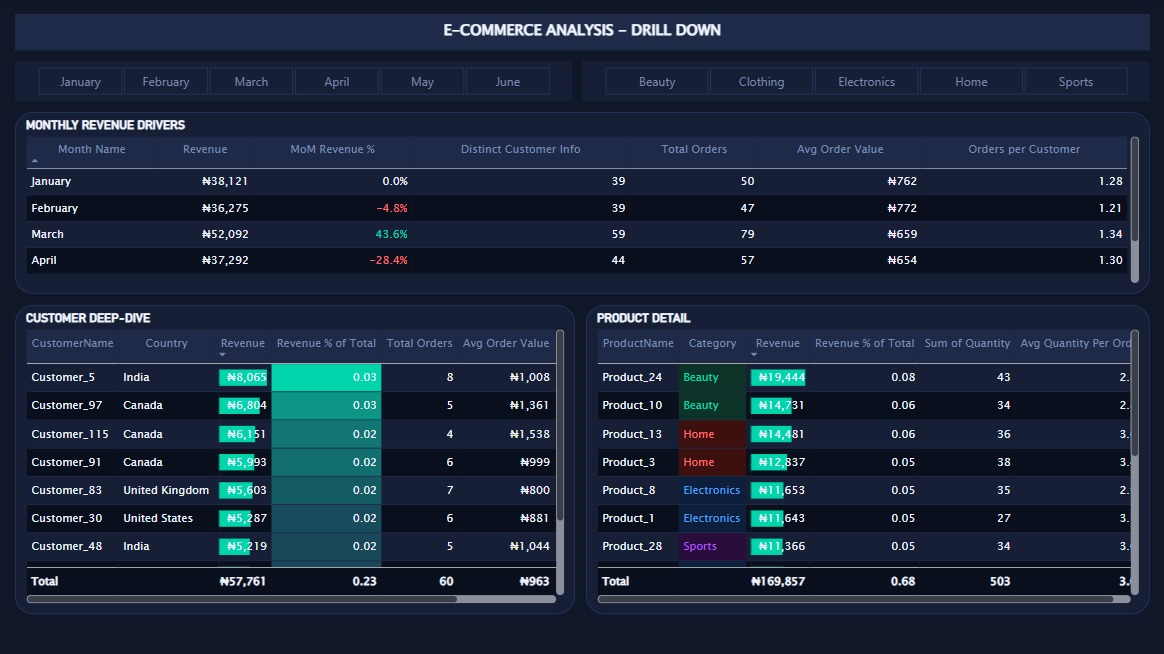

This screenshot's page, from the dashboard's own definition file:
{"tool":"powerbi","page":{"name":"Drill-Down","canvas":[1280,720],"ordinal":2},"visuals":[{"type":"textbox","box":[16,16,1248,40],"z":0},{"type":"slicer","fields":{"Values":["Sales.Month Name"]},"box":[16,68,612,44],"z":1},{"type":"slicer","fields":{"Values":["Products.Category"]},"box":[640,68,624,44],"z":2},{"type":"tableEx","title":"MONTHLY REVENUE DRIVERS","fields":{"Values":["Sales.Month Name","_Measure.Revenue","_Measure.MoM Revenue %","_Measure.Distinct Customer Info","_Measure.Total Orders","_Measure.Avg Order Value","_Measure.Orders per Customer"]},"box":[16,124,1248,200],"z":3},{"type":"tableEx","title":"CUSTOMER DEEP-DIVE","fields":{"Values":["Customer_info.CustomerName","Customer_info.Country","_Measure.Revenue","_Measure.Revenue % of Total","_Measure.Total Orders","_Measure.Avg Order Value","_Measure.Orders per Customer"]},"box":[16,336,616,340],"z":4},{"type":"tableEx","title":"PRODUCT DETAIL","fields":{"Values":["Products.ProductName","Products.Category","_Measure.Revenue","_Measure.Revenue % of Total","Sum(Sales.Quantity)","_Measure.Avg Quantity Per Order"]},"box":[644,336,620,340],"z":5}]}

Visuals, with their boxes in screenshot pixels (x1, y1, x2, y2), scaled from the page's 1280x720 canvas onto the 1164x654 screenshot:
textbox: left=15, top=15, right=1149, bottom=51
slicer - Sales.Month Name: left=15, top=62, right=571, bottom=102
slicer - Products.Category: left=582, top=62, right=1149, bottom=102
"MONTHLY REVENUE DRIVERS" tableEx: left=15, top=113, right=1149, bottom=294
"CUSTOMER DEEP-DIVE" tableEx: left=15, top=305, right=575, bottom=614
"PRODUCT DETAIL" tableEx: left=586, top=305, right=1149, bottom=614
